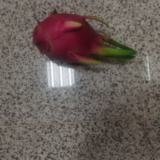pitaya: (33, 10, 137, 70)
